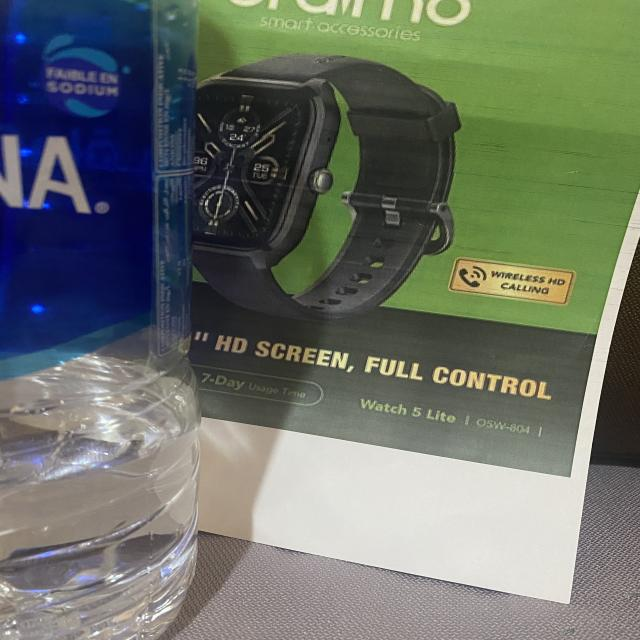Watch 5 Lite OSW-804: (354, 391, 555, 445)
